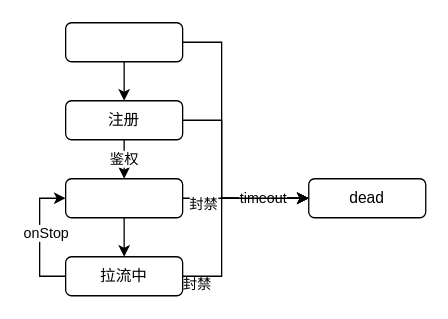
Some shapes in this 448 by 319 pixel diagram are drawn without their labels. Here are the shapes that lost their labels. From the top down, the box of each, then its label:
(64, 21, 183, 62): 未注册
(64, 177, 183, 218): 在线
